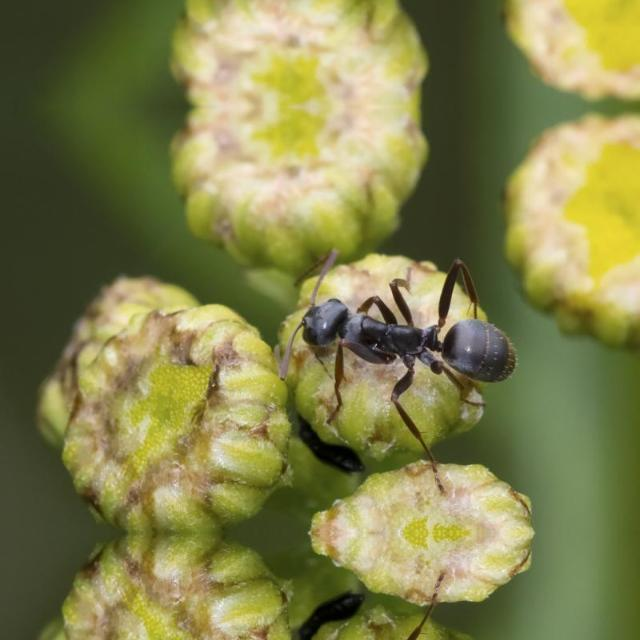Formica: (280, 250, 548, 412)
